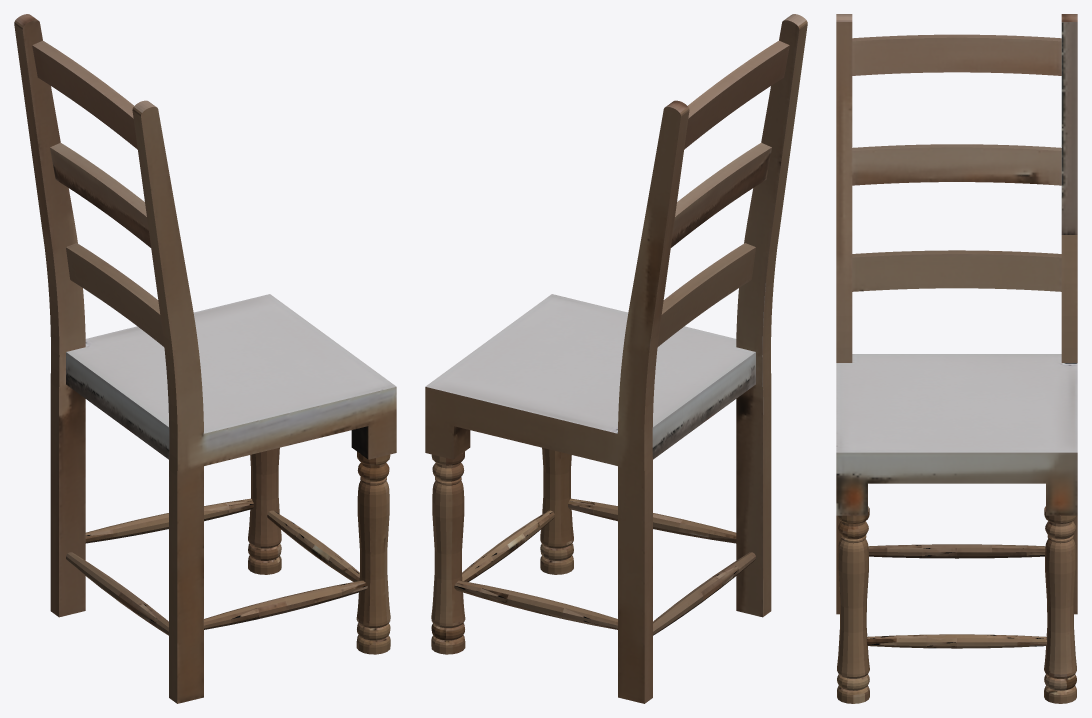
3 views of the same model, side by side, from view 1: azimuth 30°, elevation 25°; view 2: azimuth 150°, elevation 25°; view 3: azimuth 270°, elevation 25° (orthographic). The views are drawn at different scales.
Parts seen in each view (by area): view 1: Node; view 2: Node; view 3: Node.
Part boxes in pixels (box(x1,y1,x2,y2)): Node: box(14, 14, 396, 703); Node: box(425, 14, 807, 703); Node: box(836, 14, 1077, 703).
Size of the model in its own units: 0.3114 by 0.7 by 0.2667.
1 material, 1 textured.
